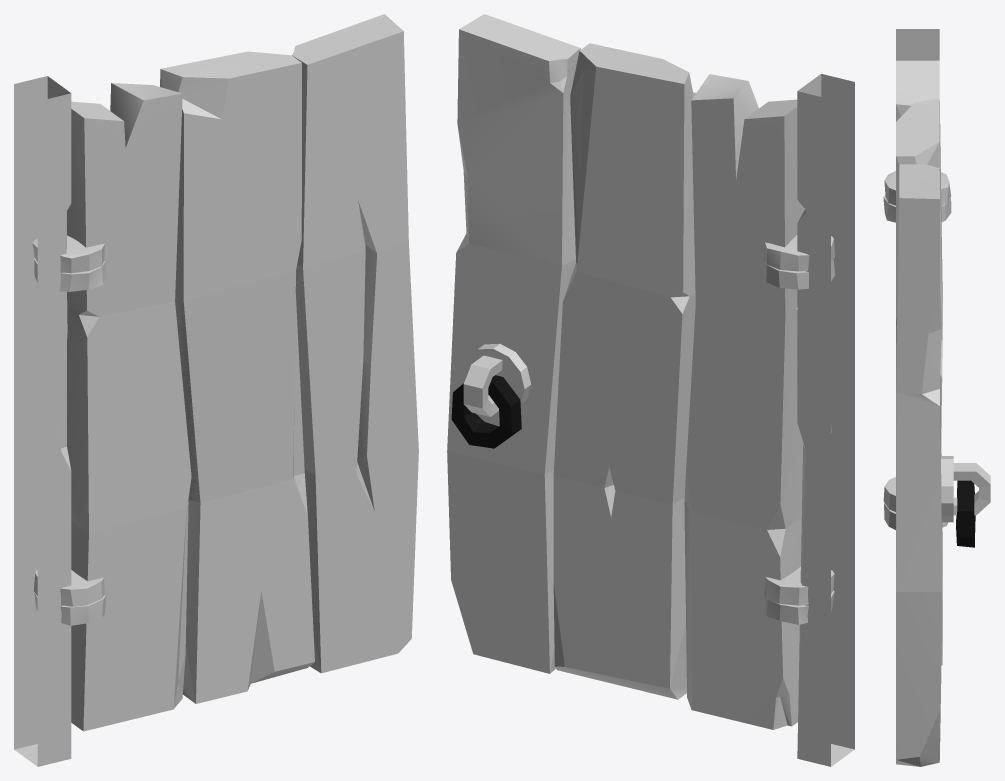
Rendered from NGF_Env_Door_attachment_06.fbx.
3 views of the same model, side by side, from view 1: azimuth 30°, elevation 25°; view 2: azimuth 150°, elevation 25°; view 3: azimuth 270°, elevation 25° (orthographic). The views are drawn at different scales.
Visible parts, largest first — view 1: NGF_Env_Door_12, NGF_Env_Door_attachment_06, NGF_Env_Hinges_23, NGF_Env_Hinges_21; view 2: NGF_Env_Door_12, NGF_Env_Door_attachment_06, NGF_Env_Handle_attachment_12, NGF_Env_Handle_12, NGF_Env_Hinges_23, NGF_Env_Hinges_21; view 3: NGF_Env_Door_12, NGF_Env_Handle_attachment_12, NGF_Env_Door_attachment_06, NGF_Env_Handle_12, NGF_Env_Hinges_23, NGF_Env_Hinges_21.
Part boxes in pixels (left/top/right/bottom): NGF_Env_Door_12: left=67, top=14, right=418, bottom=731; NGF_Env_Door_attachment_06: left=14, top=76, right=71, bottom=766; NGF_Env_Hinges_23: left=32, top=235, right=104, bottom=606; NGF_Env_Hinges_21: left=34, top=258, right=106, bottom=625; NGF_Env_Door_12: left=447, top=14, right=804, bottom=729; NGF_Env_Door_attachment_06: left=797, top=73, right=854, bottom=766; NGF_Env_Handle_attachment_12: left=462, top=343, right=531, bottom=416; NGF_Env_Handle_12: left=451, top=375, right=521, bottom=448; NGF_Env_Hinges_23: left=763, top=235, right=834, bottom=605; NGF_Env_Hinges_21: left=764, top=259, right=835, bottom=624; NGF_Env_Door_12: left=896, top=60, right=942, bottom=766; NGF_Env_Handle_attachment_12: left=941, top=456, right=990, bottom=522; NGF_Env_Door_attachment_06: left=896, top=29, right=939, bottom=121; NGF_Env_Handle_12: left=956, top=480, right=975, bottom=547; NGF_Env_Hinges_23: left=883, top=171, right=950, bottom=511; NGF_Env_Hinges_21: left=883, top=195, right=951, bottom=529.
Size of the model in its own units: 1.58 by 2.64 by 0.4188.
1 material, 1 textured.
